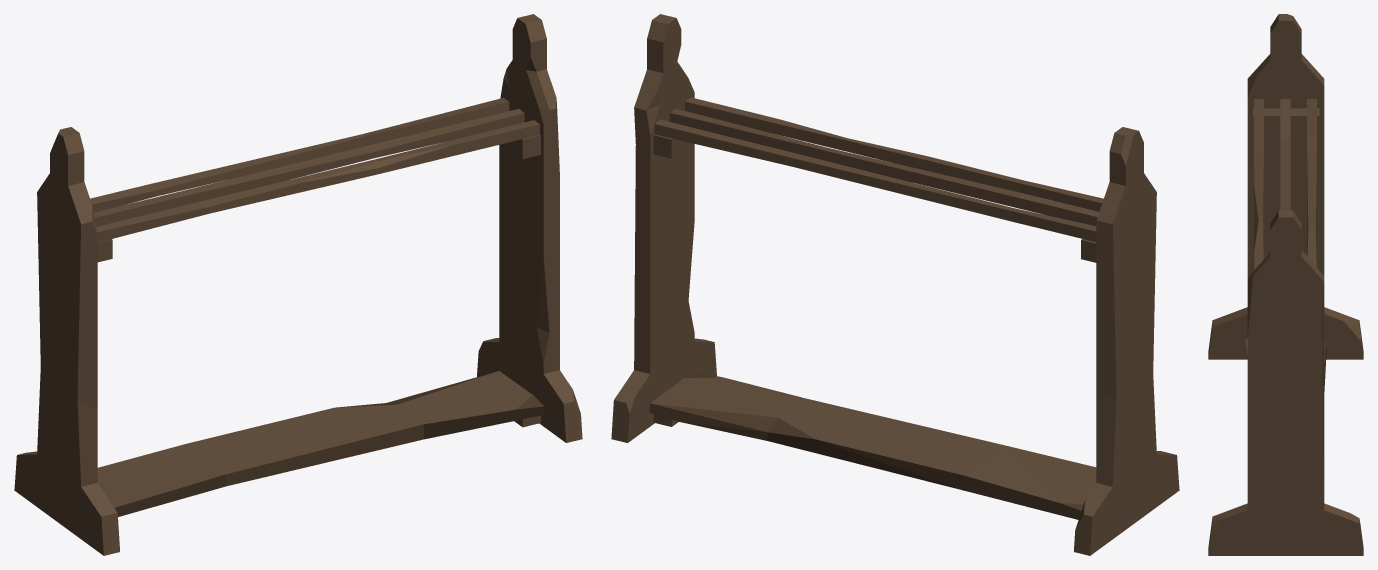
The model's file is castle_weapon_rack.gltf.
3 renders of one model, left to right at view 1: azimuth 30°, elevation 25°; view 2: azimuth 150°, elevation 25°; view 3: azimuth 270°, elevation 25°, orthographic. The views are drawn at different scales.
Parts seen in each view (by area): view 1: castle_weapon_rack; view 2: castle_weapon_rack; view 3: castle_weapon_rack.
Boxes of the visible parts, bbox=[...] form: castle_weapon_rack: bbox=[14, 14, 582, 555]; castle_weapon_rack: bbox=[611, 14, 1179, 555]; castle_weapon_rack: bbox=[1208, 14, 1363, 555].
Bounding box in the file's own units: 2.04 × 1.58 × 0.6593.
Materials: 1 (1 with a texture image).
